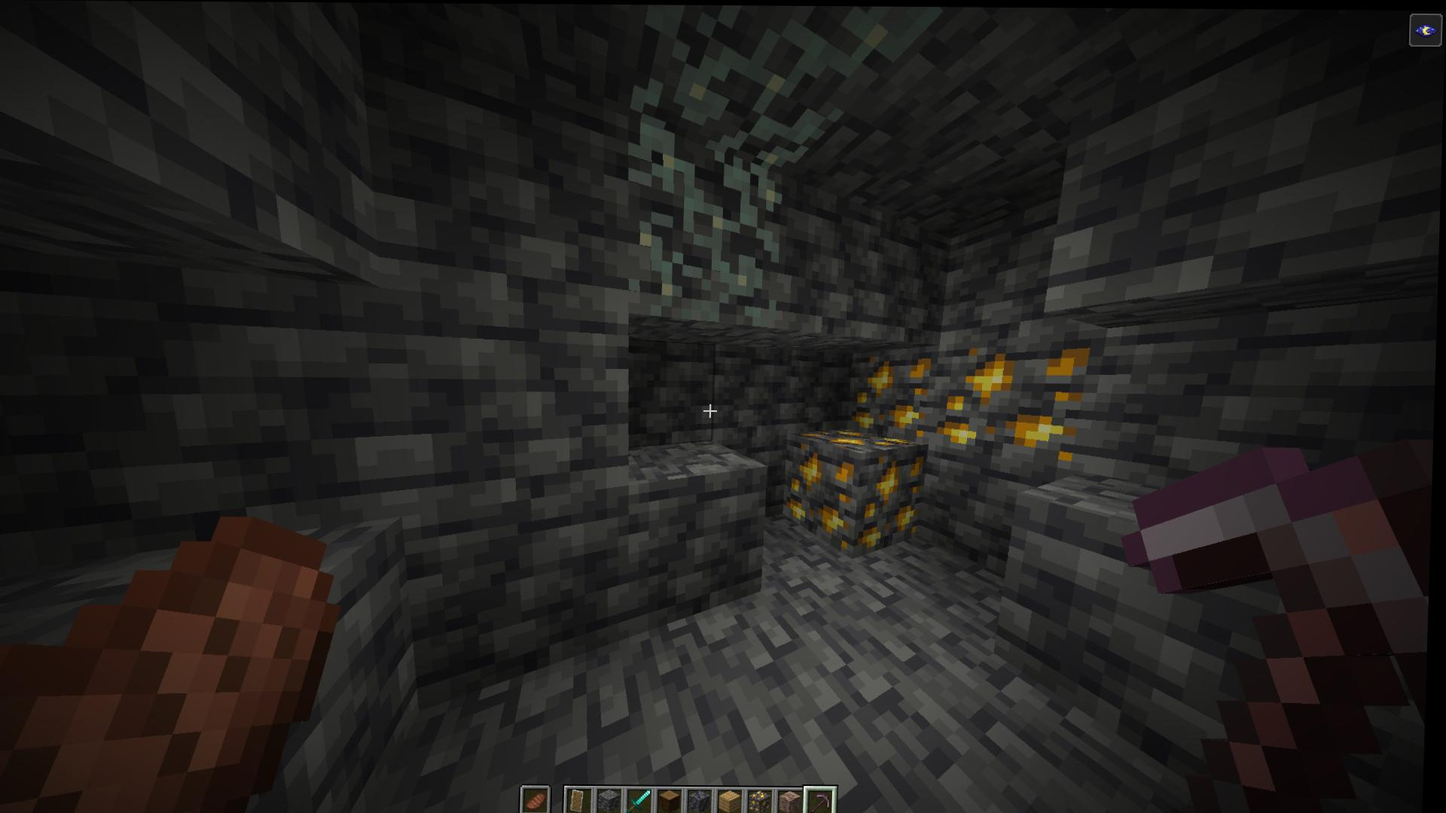gold ore: (786, 428, 928, 559), (933, 347, 1094, 455), (845, 349, 943, 442)
